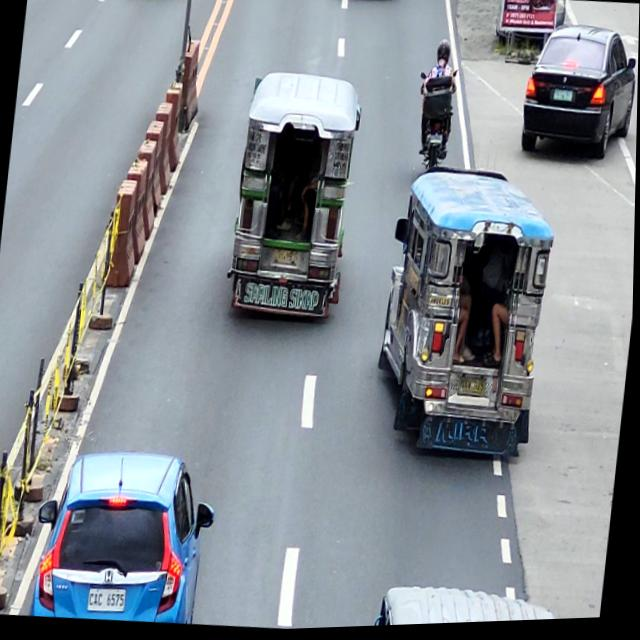Car: (29, 439, 221, 631), (519, 22, 639, 169)
Jeep: (371, 164, 562, 465), (225, 66, 364, 326)
License-Plate: (90, 588, 129, 614), (459, 380, 488, 401), (273, 250, 299, 270), (553, 92, 573, 107), (430, 135, 443, 147)
Motorcycle: (409, 70, 458, 175)
